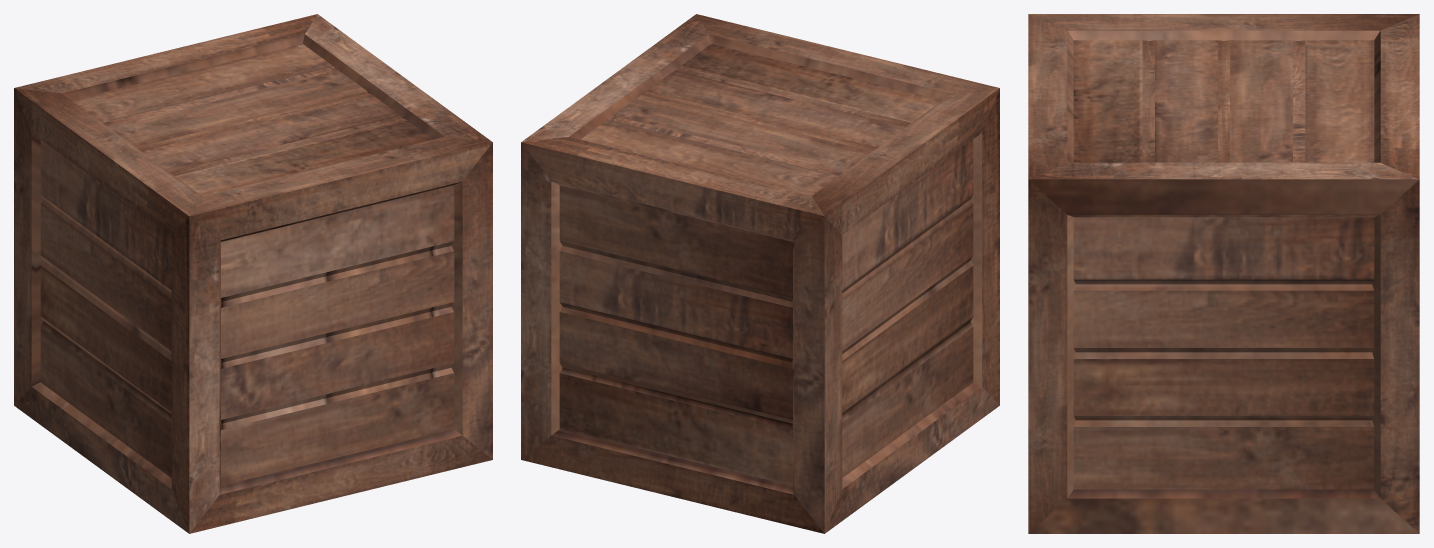
The picture shows the model from 3 angles, left to right: view 1: azimuth 30°, elevation 25°; view 2: azimuth 150°, elevation 25°; view 3: azimuth 270°, elevation 25°; orthographic projection. The views are drawn at different scales.
Visible parts, largest first — view 1: Cube; view 2: Cube; view 3: Cube.
Part boxes in pixels (x1,y1,x2,y2): Cube: (14, 14, 492, 533); Cube: (521, 14, 999, 533); Cube: (1028, 14, 1419, 533).
Bounding box in the file's own units: 2 × 2 × 2.
Materials: 1 (1 with a texture image).
